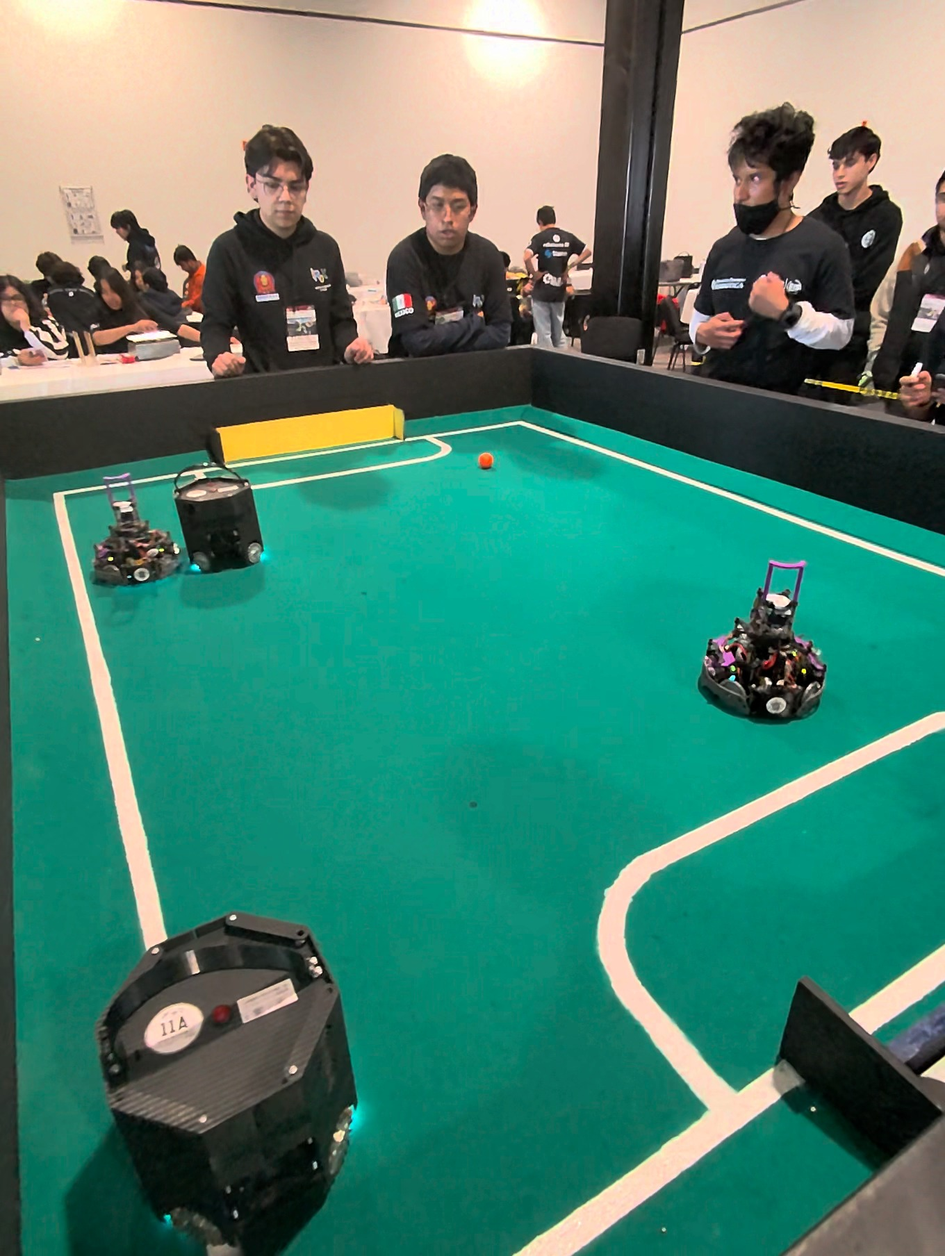Robot: (79, 890, 392, 1250), (704, 568, 832, 737), (171, 445, 271, 594), (89, 494, 177, 594)
pelota: (457, 430, 510, 487)
